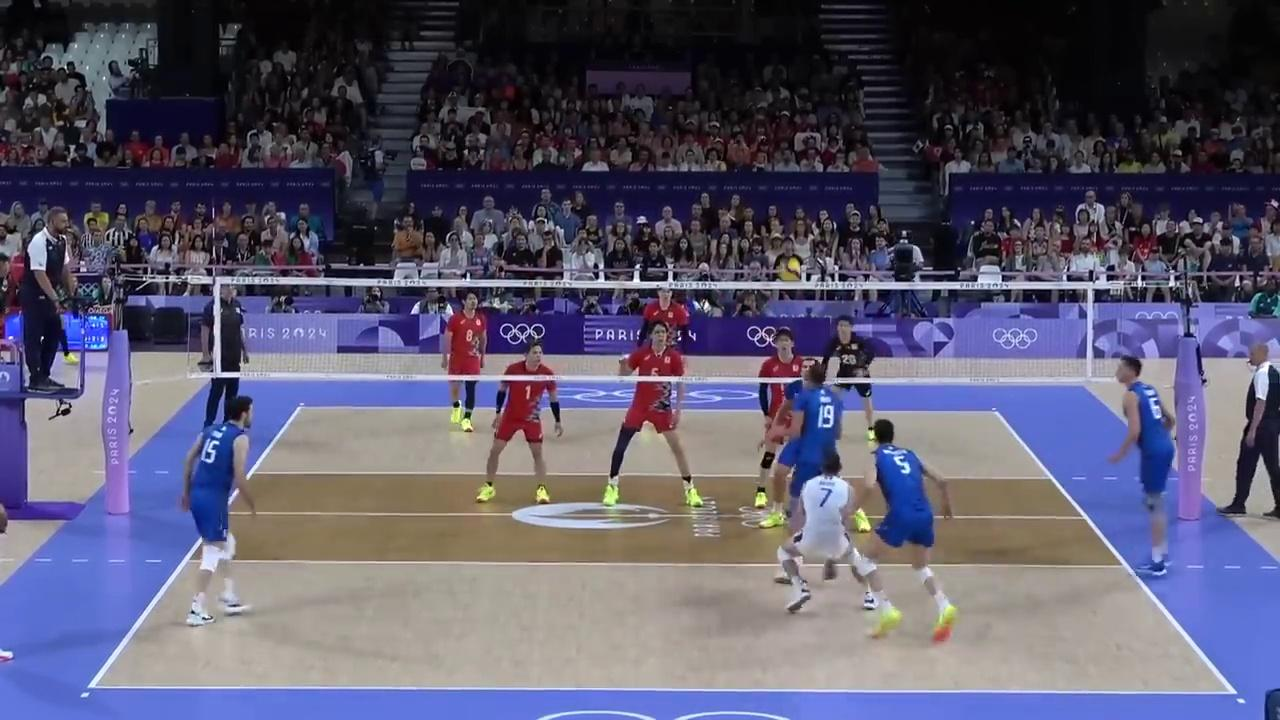ball: (775, 256, 802, 282)
